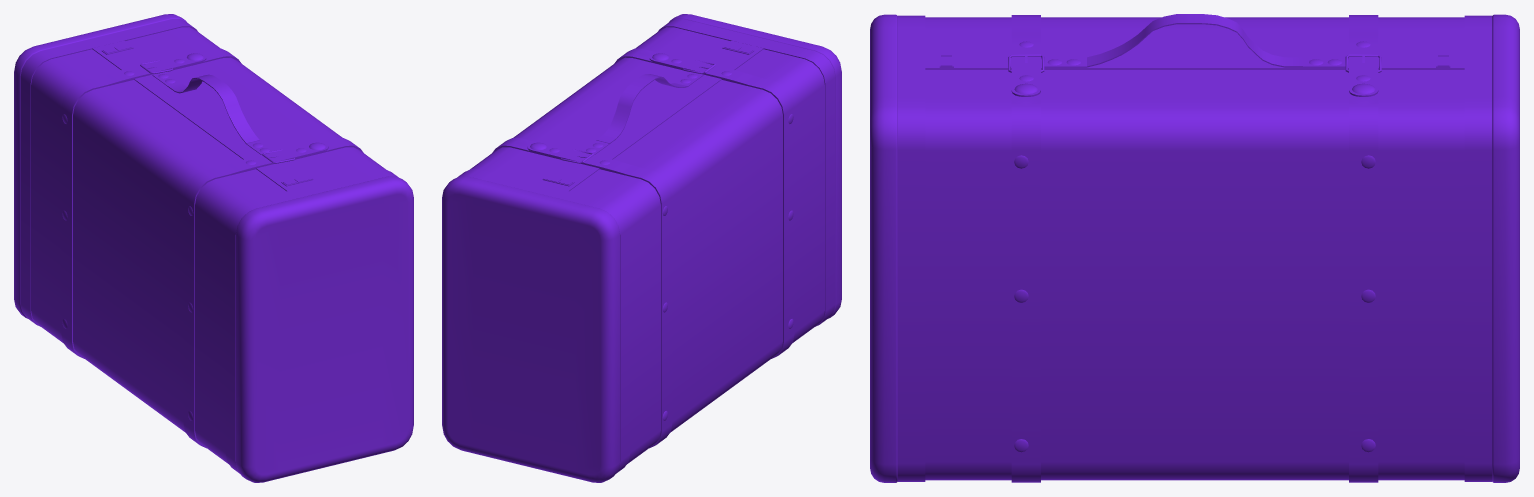
The model's file is briefcase.fbx.
3 renders of one model, left to right at view 1: azimuth 30°, elevation 25°; view 2: azimuth 150°, elevation 25°; view 3: azimuth 270°, elevation 25°, orthographic. The views are drawn at different scales.
Visible parts, largest first — view 1: Cube.001; view 2: Cube.001; view 3: Cube.001.
Part boxes in pixels (left/top/right/bottom): Cube.001: left=14, top=14, right=413, bottom=482; Cube.001: left=442, top=14, right=841, bottom=482; Cube.001: left=870, top=14, right=1519, bottom=482.
Bounding box in the file's own units: 75.54 × 125 × 177.
